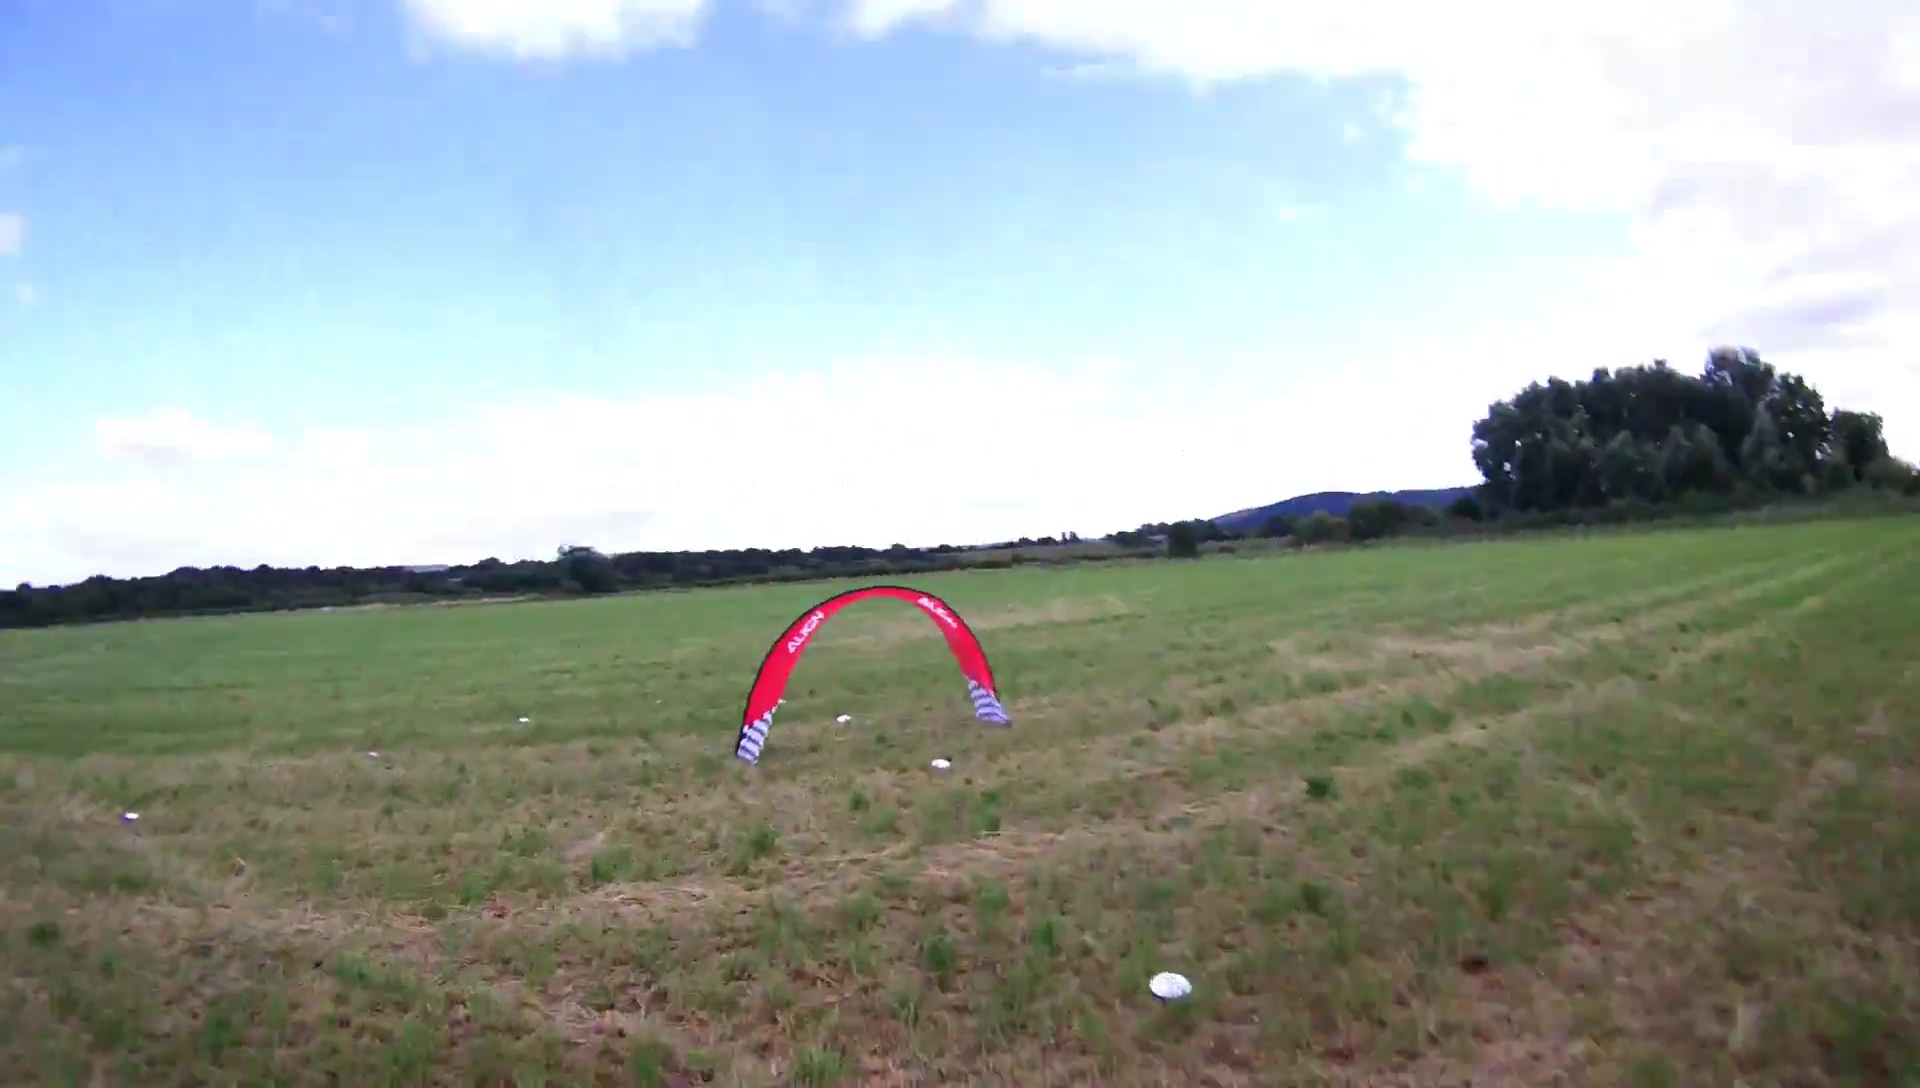gate: (733, 582, 1017, 768)
